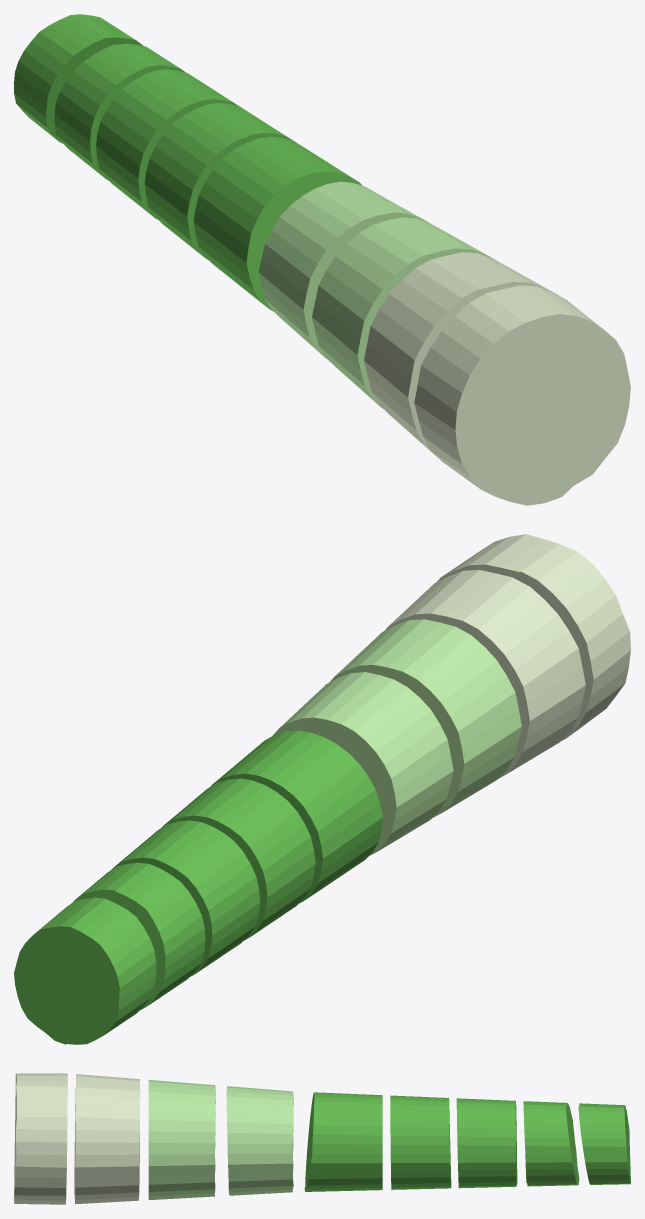
File: greenOnionCutfbx.fbx
3 renders of one model, top to bottom at view 1: azimuth 30°, elevation 25°; view 2: azimuth 150°, elevation 25°; view 3: azimuth 270°, elevation 25°, orthographic. The views are drawn at different scales.
Parts seen in each view (by area): view 1: Cylinder.015, Cylinder.019, Cylinder.016, Cylinder.017, Cylinder.018, Cylinder.020, Cylinder.021, Cylinder.023, Cylinder.022; view 2: Cylinder.016, Cylinder.023, Cylinder.017, Cylinder.018, Cylinder.019, Cylinder.015, Cylinder.020, Cylinder.021, Cylinder.022; view 3: Cylinder.016, Cylinder.017, Cylinder.019, Cylinder.018, Cylinder.015, Cylinder.020, Cylinder.021, Cylinder.022, Cylinder.023.
Boxes of the visible parts, x1=… form: Cylinder.015: x1=414, y1=285, x2=630, y2=505; Cylinder.019: x1=193, y1=136, x2=361, y2=311; Cylinder.016: x1=364, y1=252, x2=558, y2=455; Cylinder.017: x1=312, y1=217, x2=496, y2=408; Cylinder.018: x1=258, y1=181, x2=429, y2=358; Cylinder.020: x1=144, y1=103, x2=293, y2=259; Cylinder.021: x1=96, y1=69, x2=239, y2=219; Cylinder.023: x1=14, y1=14, x2=143, y2=143; Cylinder.022: x1=54, y1=43, x2=185, y2=180; Cylinder.016: x1=385, y1=570, x2=585, y2=778; Cylinder.023: x1=14, y1=897, x2=156, y2=1044; Cylinder.017: x1=330, y1=619, x2=521, y2=817; Cylinder.018: x1=272, y1=672, x2=453, y2=855; Cylinder.019: x1=211, y1=730, x2=382, y2=903; Cylinder.015: x1=437, y1=534, x2=630, y2=740; Cylinder.020: x1=161, y1=778, x2=315, y2=940; Cylinder.021: x1=112, y1=820, x2=260, y2=976; Cylinder.022: x1=73, y1=862, x2=205, y2=1010; Cylinder.016: x1=74, y1=1074, x2=139, y2=1204; Cylinder.017: x1=148, y1=1080, x2=215, y2=1199; Cylinder.019: x1=304, y1=1092, x2=382, y2=1191; Cylinder.018: x1=226, y1=1086, x2=293, y2=1195; Cylinder.015: x1=14, y1=1073, x2=67, y2=1204; Cylinder.020: x1=390, y1=1095, x2=451, y2=1189; Cylinder.021: x1=456, y1=1098, x2=517, y2=1188; Cylinder.022: x1=523, y1=1101, x2=579, y2=1186; Cylinder.023: x1=578, y1=1103, x2=630, y2=1184.
Size of the model in its own units: 70.43 by 69.22 by 326.
